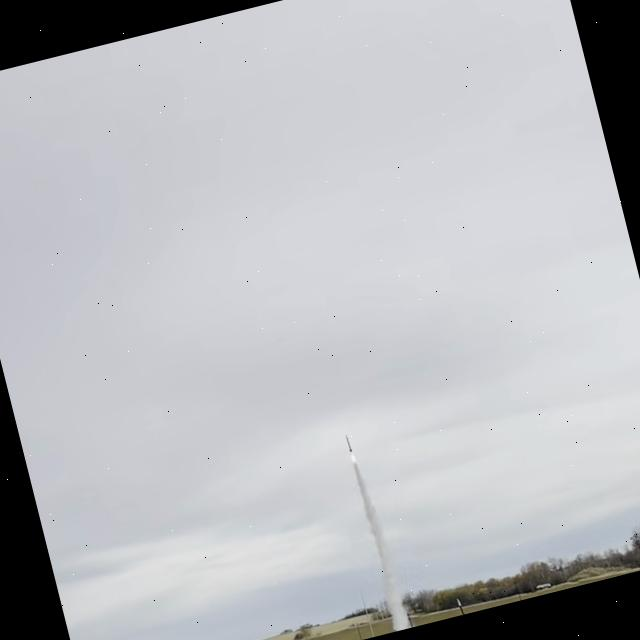smoke_trail_with_rocket: (347, 438, 411, 632)
